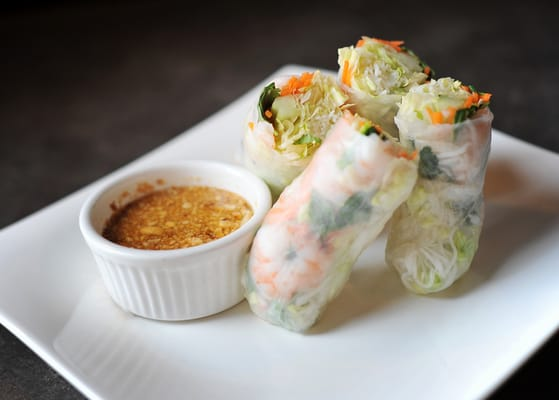soup: (244, 108, 422, 333)
sushi: (78, 158, 272, 322)
